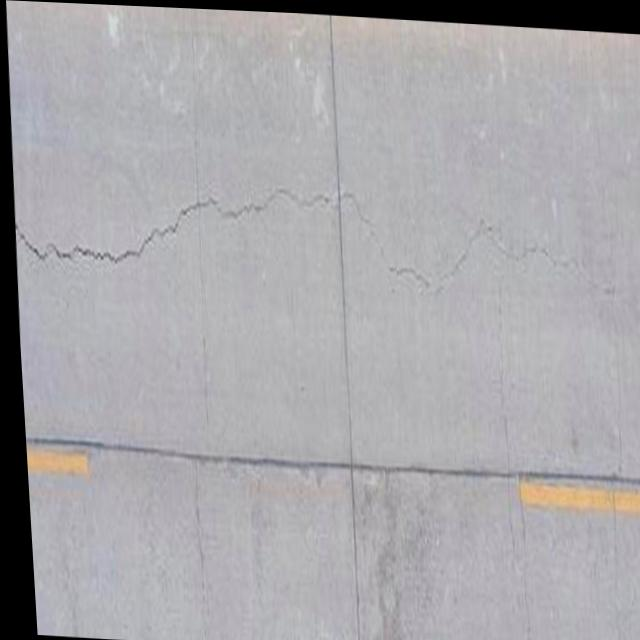Crack: (8, 163, 245, 301)
